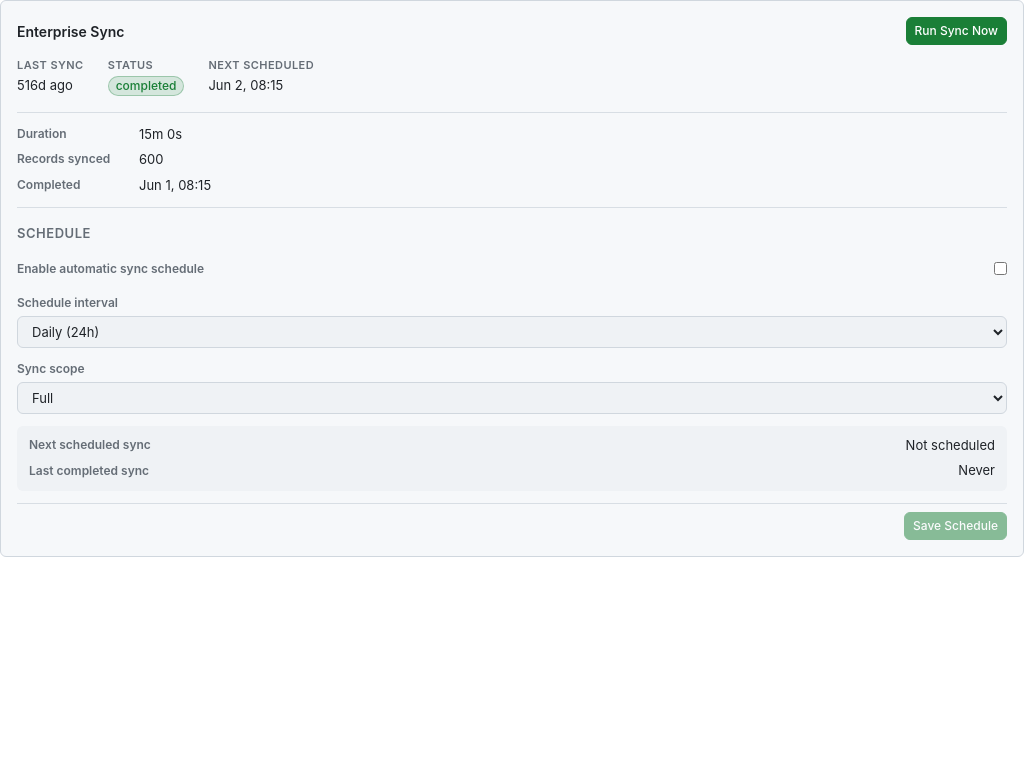
Test: ScheduleSection › shows success message after saving
Click the checkbox labelled "Enable automatic sync schedule": (1000, 268) [994,262,1007,275]
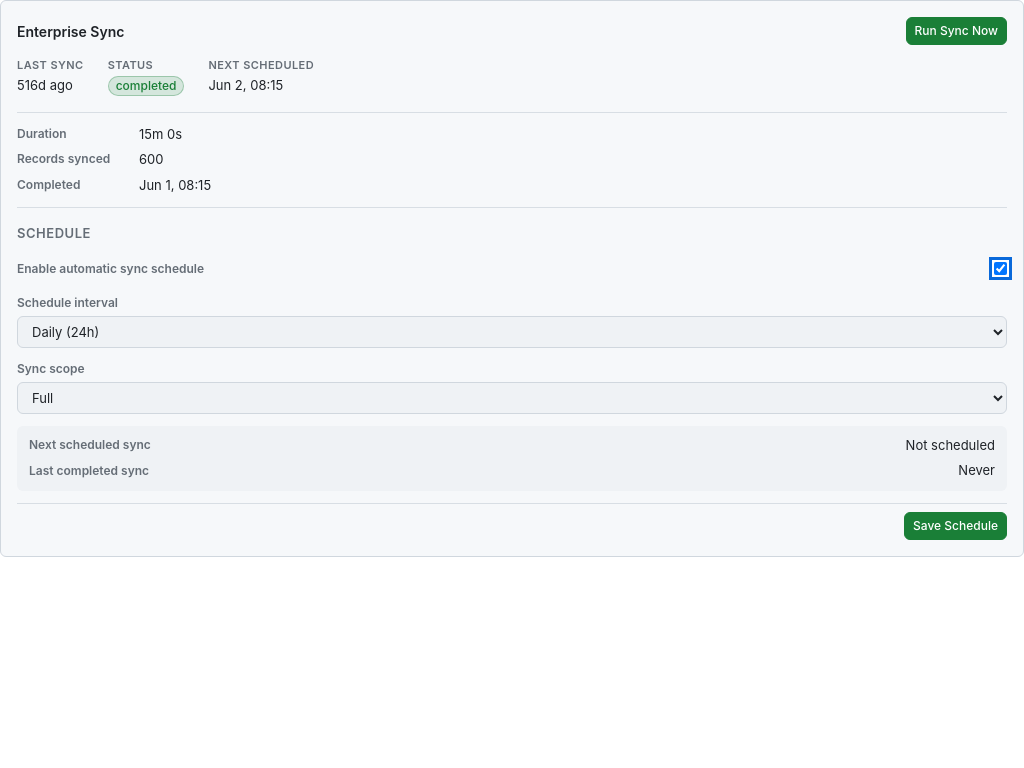
Click the button "Save Schedule": (956, 526) [904,512,1007,540]
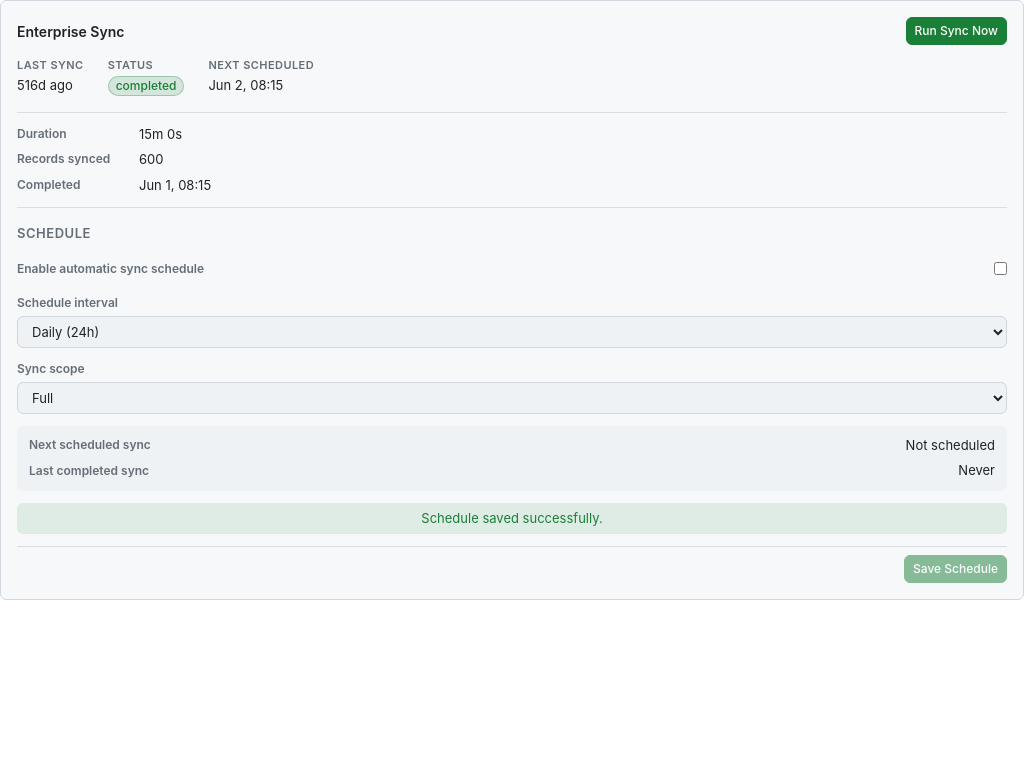
Now the text "Schedule saved successfully." is shown, box [17,502,1007,534]
